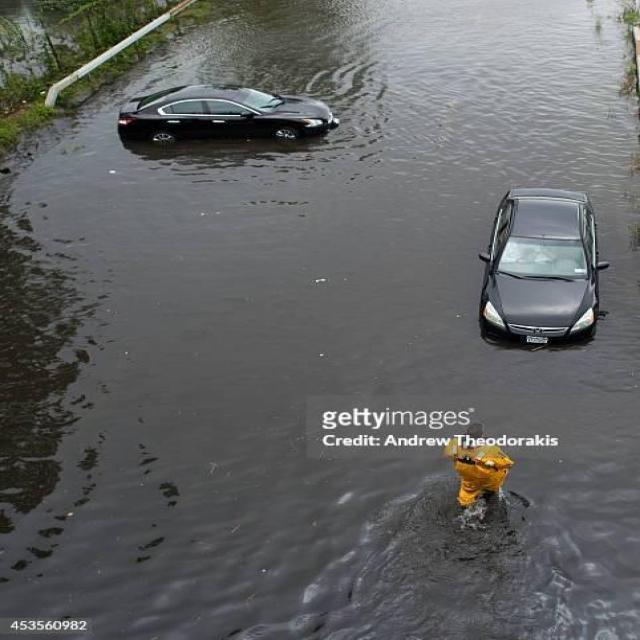water: (1, 1, 637, 638)
